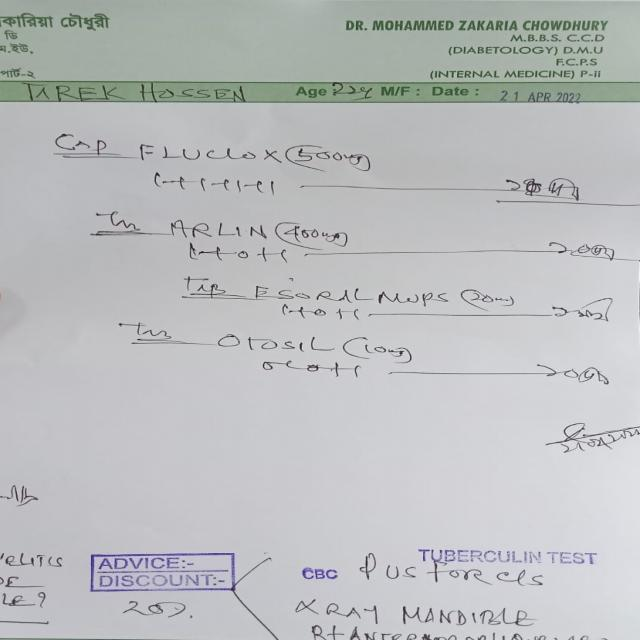Arilin: (167, 210, 278, 246)
Esoral: (243, 278, 383, 306)
Fluclox: (128, 133, 283, 171)
Otosil: (209, 331, 334, 355)
